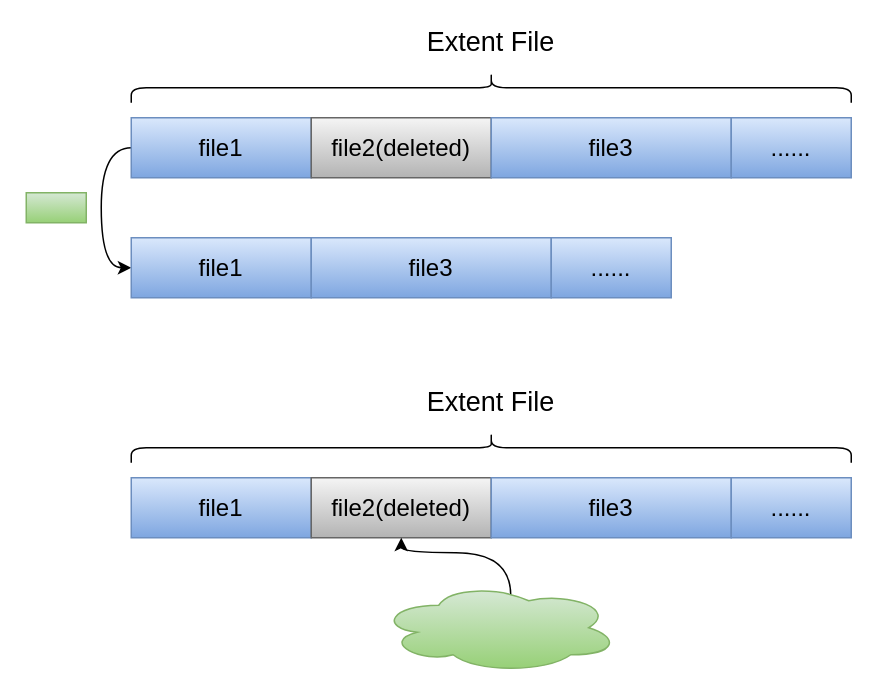
This 878x699 diagram has some shape labels left out. Each missing label, with the centre of its shape:
"GC" goes at [55,207].
"punch hole" goes at [498,627].
